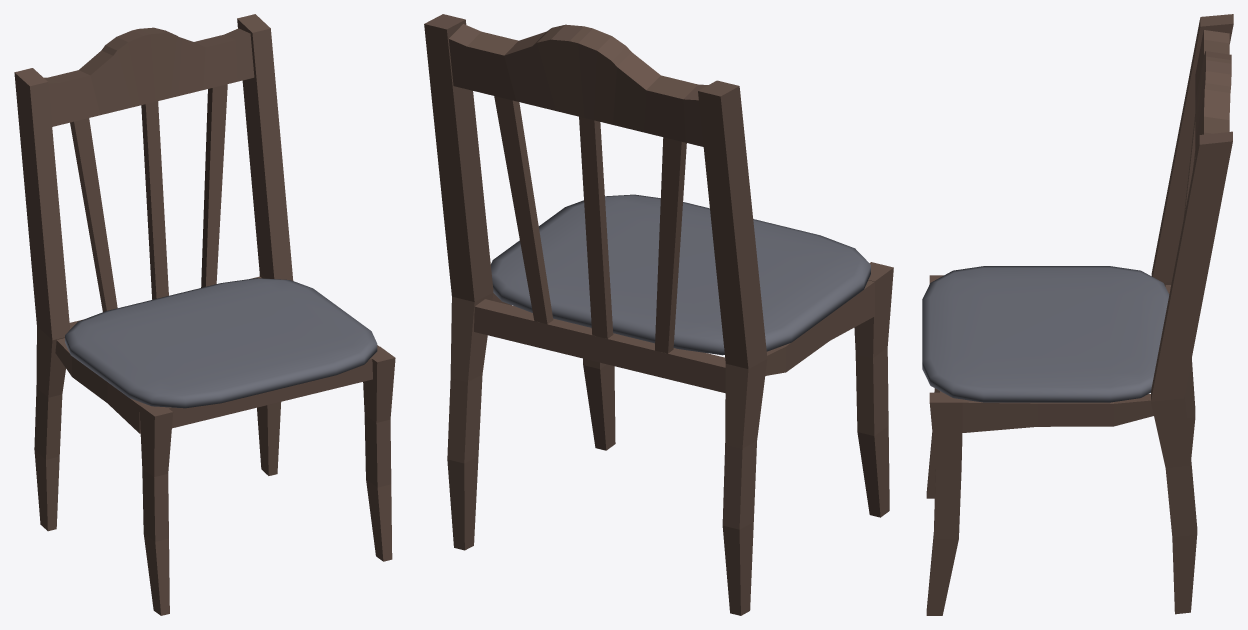
The model's file is Chair.fbx.
3 renders of one model, left to right at view 1: azimuth 30°, elevation 25°; view 2: azimuth 150°, elevation 25°; view 3: azimuth 270°, elevation 25°, orthographic. The views are drawn at different scales.
Parts seen in each view (by area): view 1: Cube.020; view 2: Cube.020; view 3: Cube.020.
Part boxes in pixels (bbox=[...]): Cube.020: bbox=[14, 14, 395, 615]; Cube.020: bbox=[424, 14, 893, 615]; Cube.020: bbox=[922, 14, 1233, 615].
Size of the model in its own units: 79.21 by 143 by 81.48.
